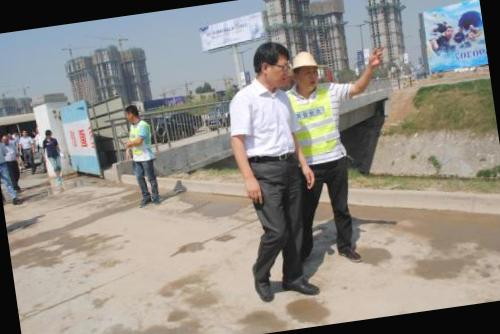no_helmet: (249, 36, 296, 94), (121, 100, 142, 127), (0, 132, 12, 148)
